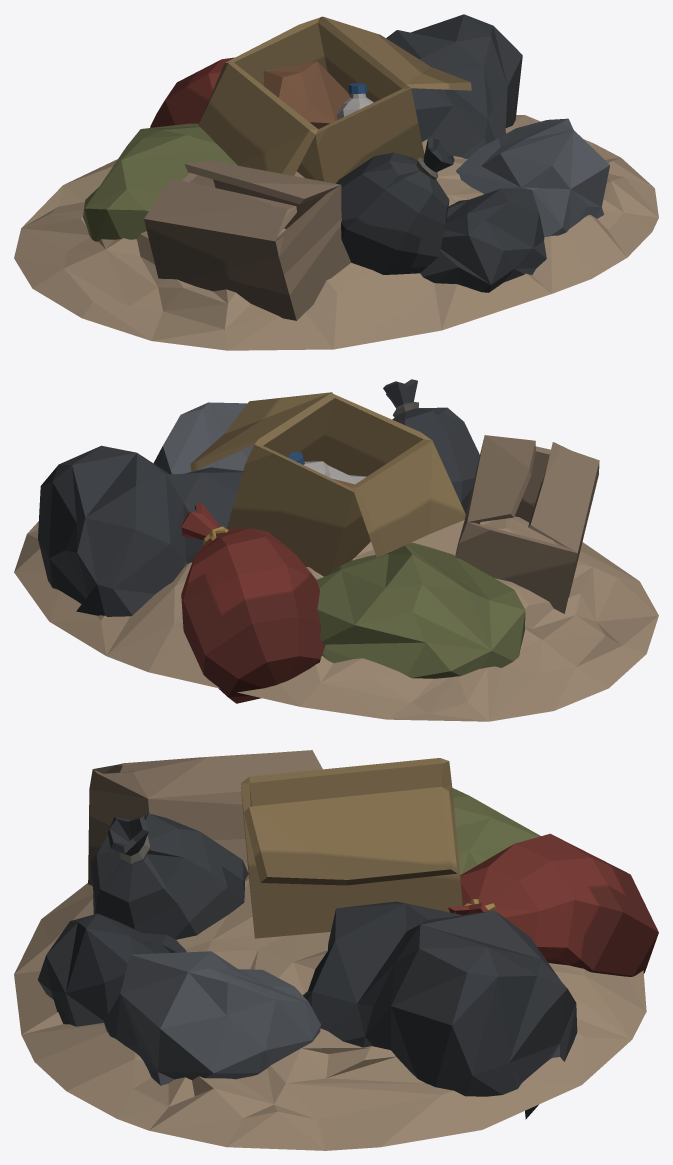
The model's file is SM_Prop_Rubbish_Pile_01.fbx.
The picture shows the model from 3 angles, top to bottom: view 1: azimuth 30°, elevation 25°; view 2: azimuth 150°, elevation 25°; view 3: azimuth 270°, elevation 25°; orthographic projection. The views are drawn at different scales.
Parts seen in each view (by area): view 1: SM_Prop_Rubbish_Pile_01; view 2: SM_Prop_Rubbish_Pile_01; view 3: SM_Prop_Rubbish_Pile_01.
Part boxes in pixels (box(x1,y1,x2,y2)): SM_Prop_Rubbish_Pile_01: box(14, 14, 658, 350); SM_Prop_Rubbish_Pile_01: box(14, 379, 658, 721); SM_Prop_Rubbish_Pile_01: box(14, 750, 658, 1150).
Size of the model in its own units: 282 by 94.53 by 224.
